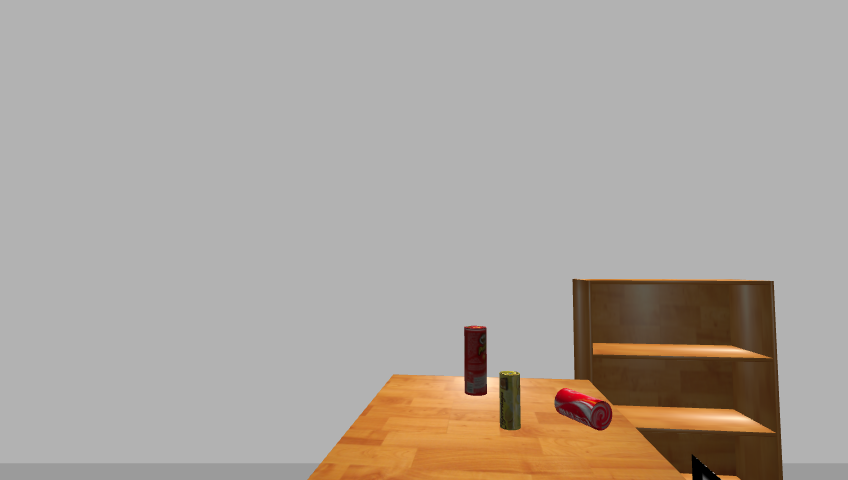aruco marker: (688, 455, 727, 480)
biscuits pack: (499, 371, 522, 431)
bookshelf: (567, 277, 787, 479)
coke can: (552, 387, 615, 431)
dinner table: (299, 373, 698, 480)
pringles can: (461, 325, 489, 397)
